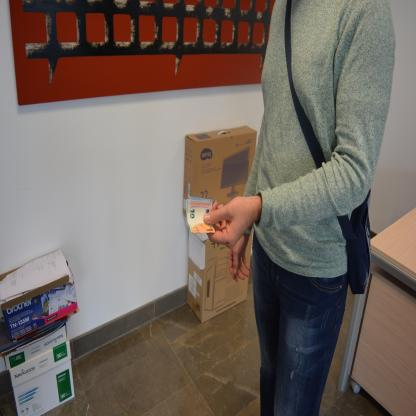billete: (183, 195, 216, 234)
